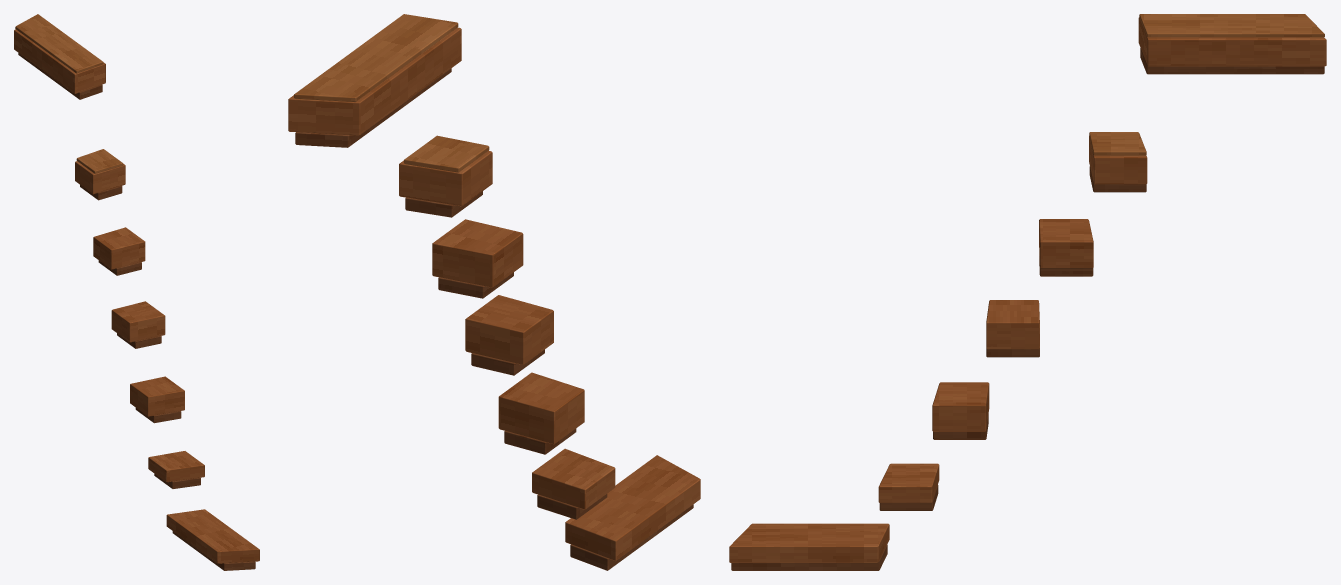
File: Coping-2.glb
The picture shows the model from 3 angles, left to right: view 1: azimuth 30°, elevation 25°; view 2: azimuth 150°, elevation 25°; view 3: azimuth 270°, elevation 25°; orthographic projection. The views are drawn at different scales.
Parts seen in each view (by area): view 1: Coping-2; view 2: Coping-2; view 3: Coping-2.
Boxes of the visible parts, x1,y1,x2,y2 form: Coping-2: (14,14,259,570); Coping-2: (288,14,700,570); Coping-2: (729,14,1326,570).
Size of the model in its own units: 0.306 by 3.33 by 3.35.
3 materials, 3 textured.
